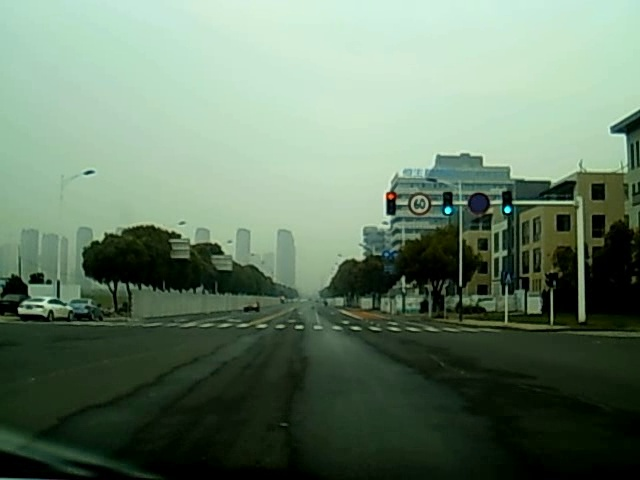Traffic_Light_go: (501, 191, 512, 220), (444, 192, 454, 218)
Traffic_Light_stop: (385, 191, 394, 216)
